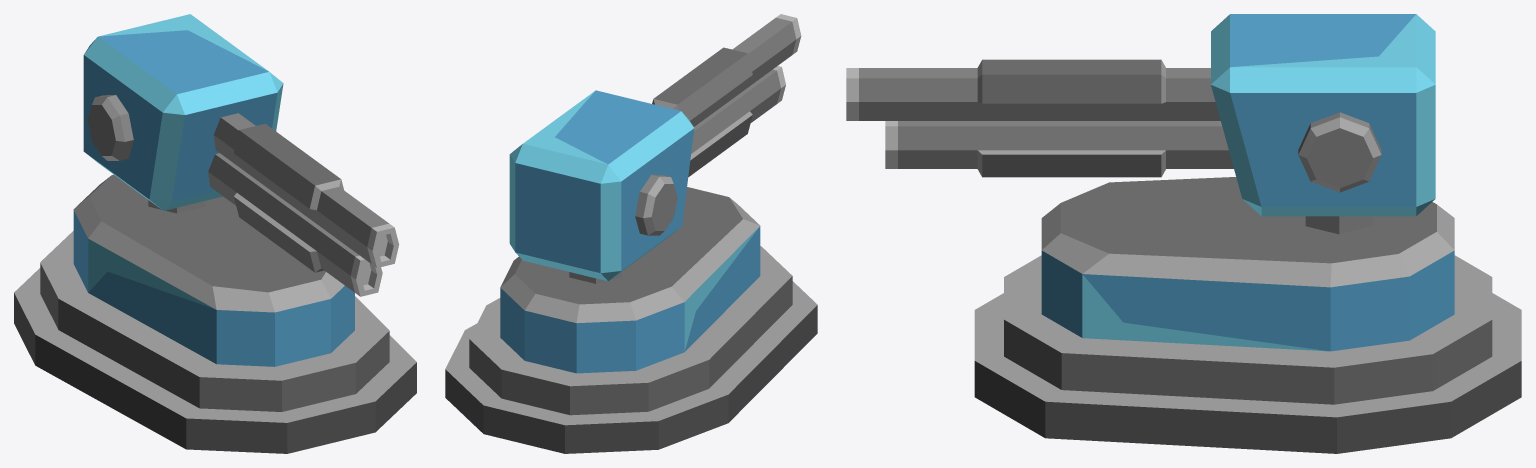
The model's file is tower_lethal_blue_1.fbx.
The picture shows the model from 3 angles, left to right: view 1: azimuth 30°, elevation 25°; view 2: azimuth 150°, elevation 25°; view 3: azimuth 270°, elevation 25°; orthographic projection. The views are drawn at different scales.
Visible parts, largest first — view 1: tower_lethal_blue_1, top_lethal_blue_1; view 2: tower_lethal_blue_1, top_lethal_blue_1; view 3: tower_lethal_blue_1, top_lethal_blue_1.
Part boxes in pixels (left/top/right/bottom): tower_lethal_blue_1: left=14, top=174, right=416, bottom=453; top_lethal_blue_1: left=83, top=14, right=399, bottom=296; tower_lethal_blue_1: left=445, top=187, right=817, bottom=453; top_lethal_blue_1: left=509, top=14, right=801, bottom=283; tower_lethal_blue_1: left=974, top=177, right=1521, bottom=453; top_lethal_blue_1: left=846, top=14, right=1435, bottom=234.
Bounding box in the file's own units: 124 × 117 × 216.
